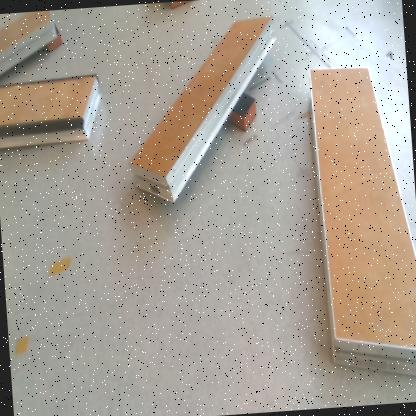Stairs: (308, 67, 416, 378), (130, 16, 279, 207), (1, 77, 104, 148), (1, 11, 60, 76)
